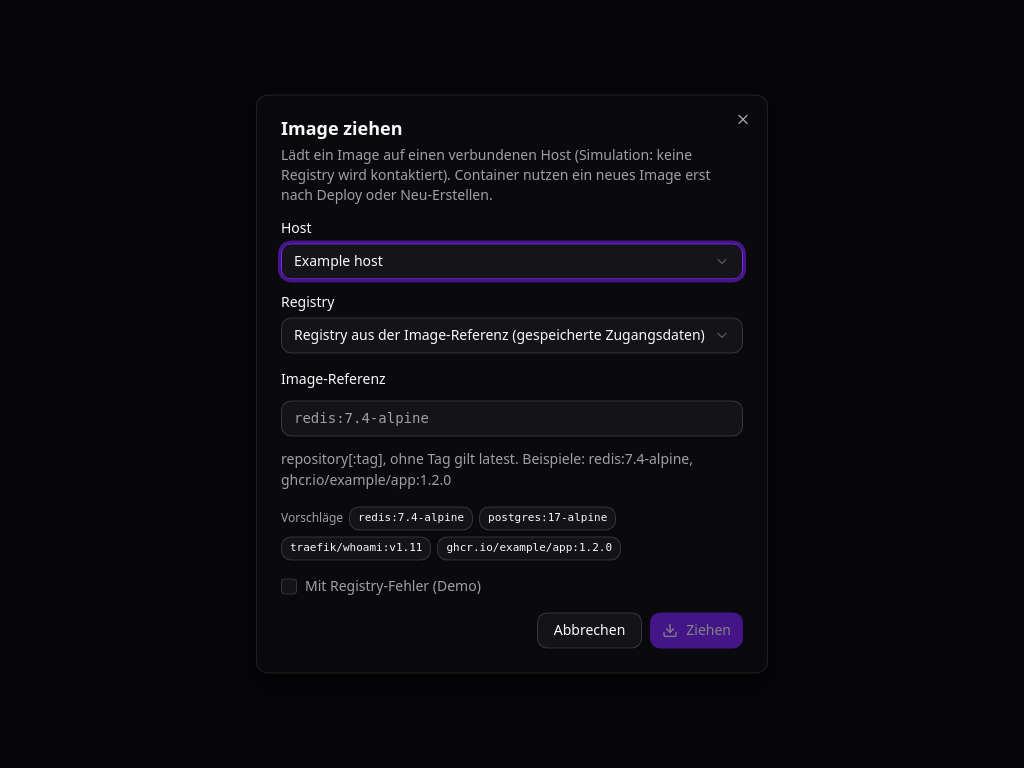
Test: preserves a rejected pull draft and renders its typed error inline
The width and height of the screenshot is (1024, 768).
Type "example/app:1" into the field labelled "Image-Referenz" at (512, 419), box [281,401,743,437]
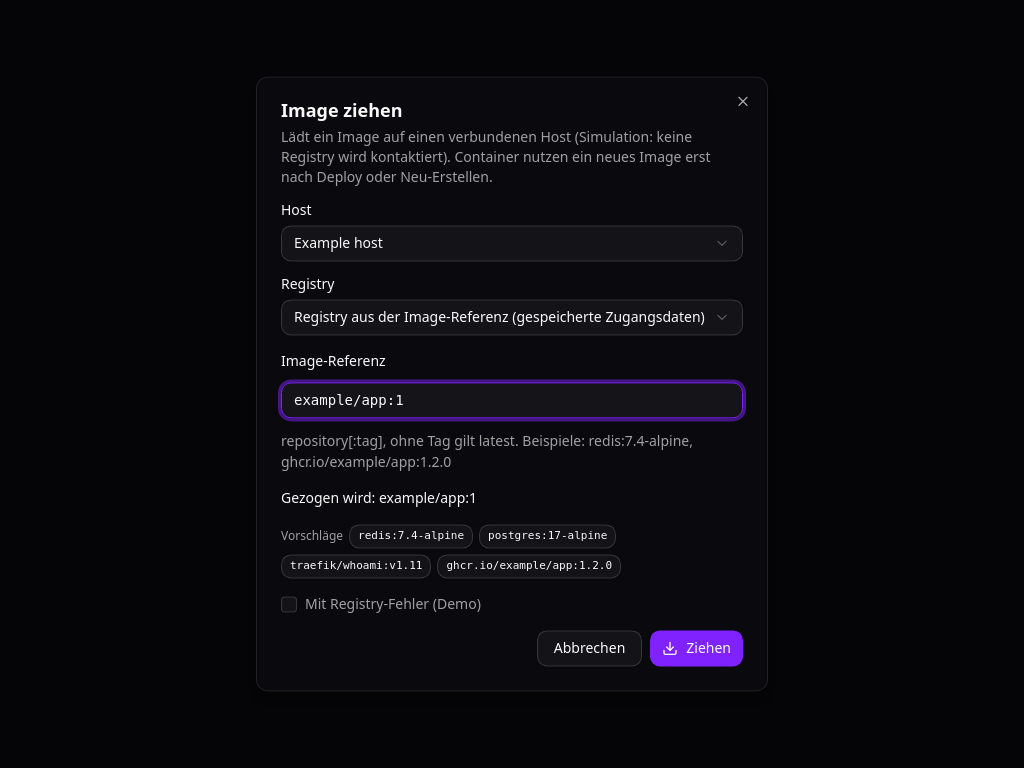
Now the button "Ziehen" is enabled
Click the button "Ziehen" at (697, 649), box [650,631,743,667]
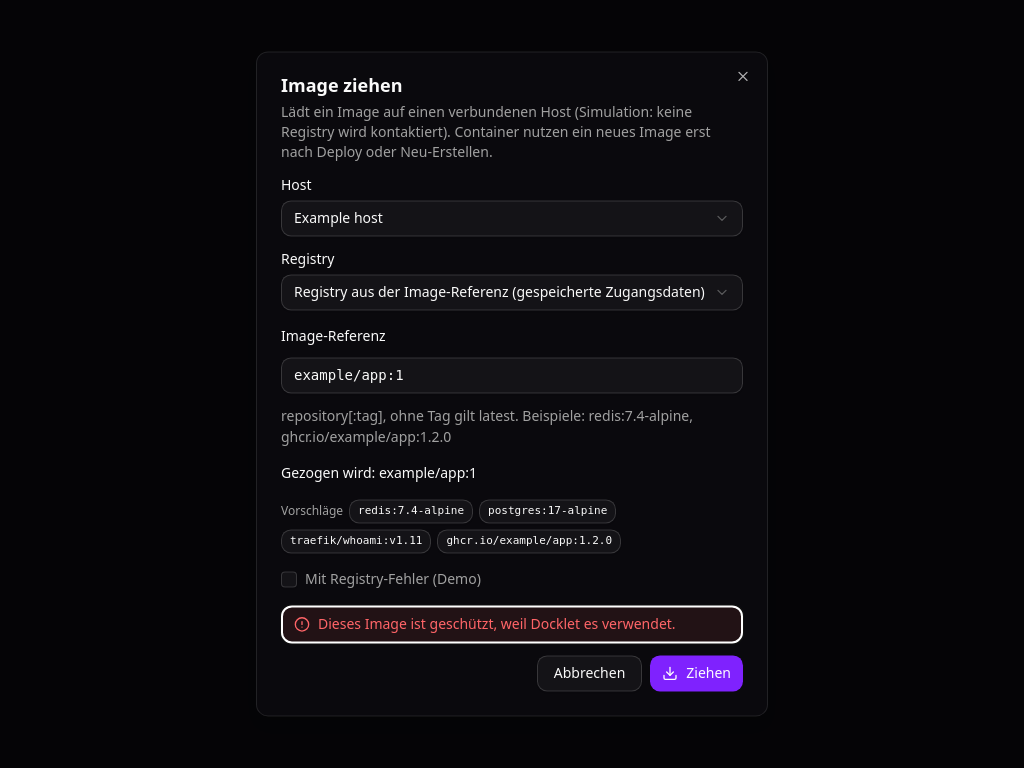
Now the message reads "Dieses Image ist geschützt, weil Docklet es verwendet.", box [318,615,676,634]
